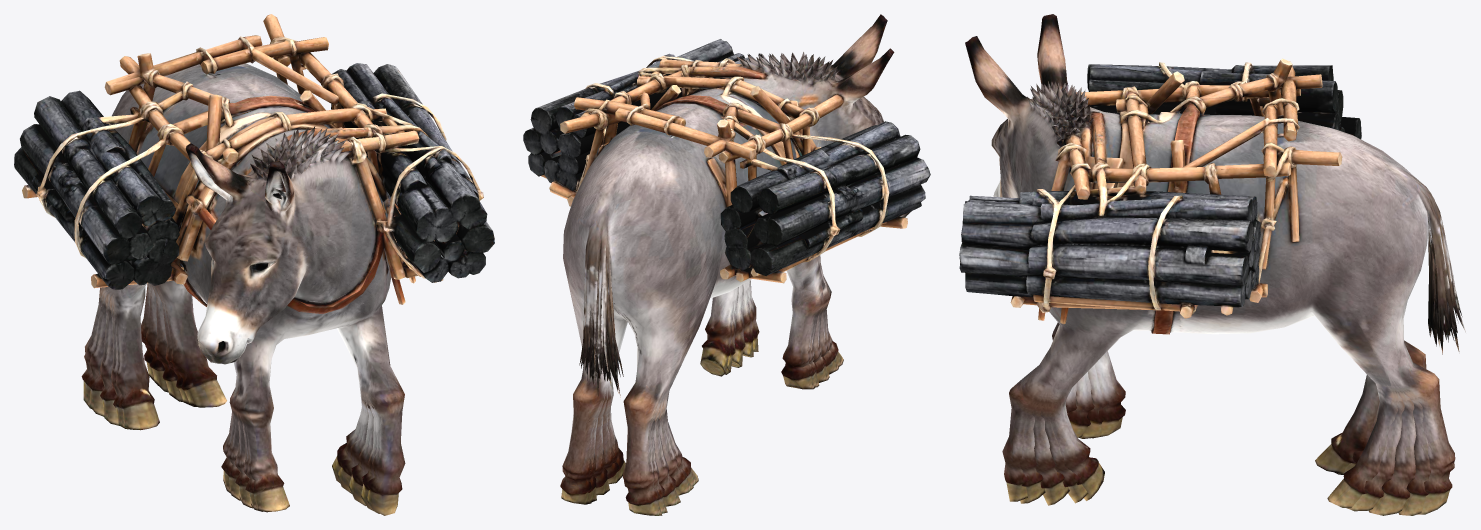
The model's file is qm_donkey_walk.glb.
3 renders of one model, left to right at view 1: azimuth 30°, elevation 25°; view 2: azimuth 150°, elevation 25°; view 3: azimuth 270°, elevation 25°, orthographic. The views are drawn at different scales.
Visible parts, largest first — view 1: f0, f2, f4, f6, f1, f5, f3; view 2: f0, f2, f6, f4, f1, f5, f3; view 3: f0, f6, f2, f1, f4, f5, f3.
Boxes of the visible parts, x1,y1,x2,y2 form: f0: (14, 14, 494, 515); f2: (81, 280, 373, 508); f4: (234, 349, 368, 512); f6: (112, 283, 159, 430); f1: (87, 285, 379, 513); f5: (109, 283, 168, 429); f3: (238, 350, 370, 511); f0: (523, 14, 930, 506); f2: (607, 283, 829, 515); f6: (560, 296, 700, 504); f4: (700, 257, 843, 376); f1: (602, 282, 826, 513); f5: (587, 343, 693, 502); f3: (725, 270, 838, 374); f0: (959, 14, 1465, 515); f6: (1315, 290, 1455, 514); f2: (1032, 322, 1442, 508); f1: (1019, 347, 1404, 511); f4: (1046, 322, 1120, 500); f5: (1334, 336, 1430, 515); f3: (1041, 348, 1093, 503).
Bounding box in the file's own units: 1.57 × 1.62 × 1.78.
1 material, 1 textured.
